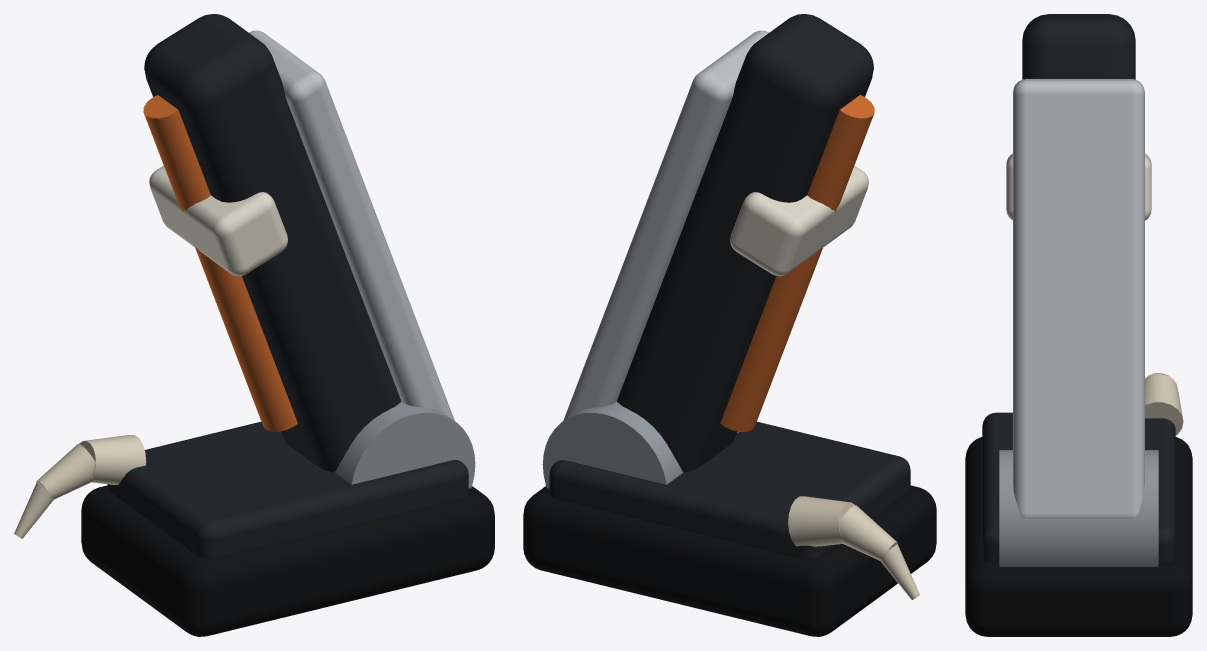
Rendered from left_foot_link.glb.
3 renders of one model, left to right at view 1: azimuth 30°, elevation 25°; view 2: azimuth 150°, elevation 25°; view 3: azimuth 270°, elevation 25°, orthographic. The views are drawn at different scales.
Parts seen in each view (by area): view 1: left_foot_link; view 2: left_foot_link; view 3: left_foot_link.
Part boxes in pixels (box(x1,y1,x2,y2)): left_foot_link: box(14, 14, 494, 636); left_foot_link: box(523, 14, 936, 636); left_foot_link: box(965, 14, 1192, 636).
Bounding box in the file's own units: 0.1865 × 0.2548 × 0.1.
